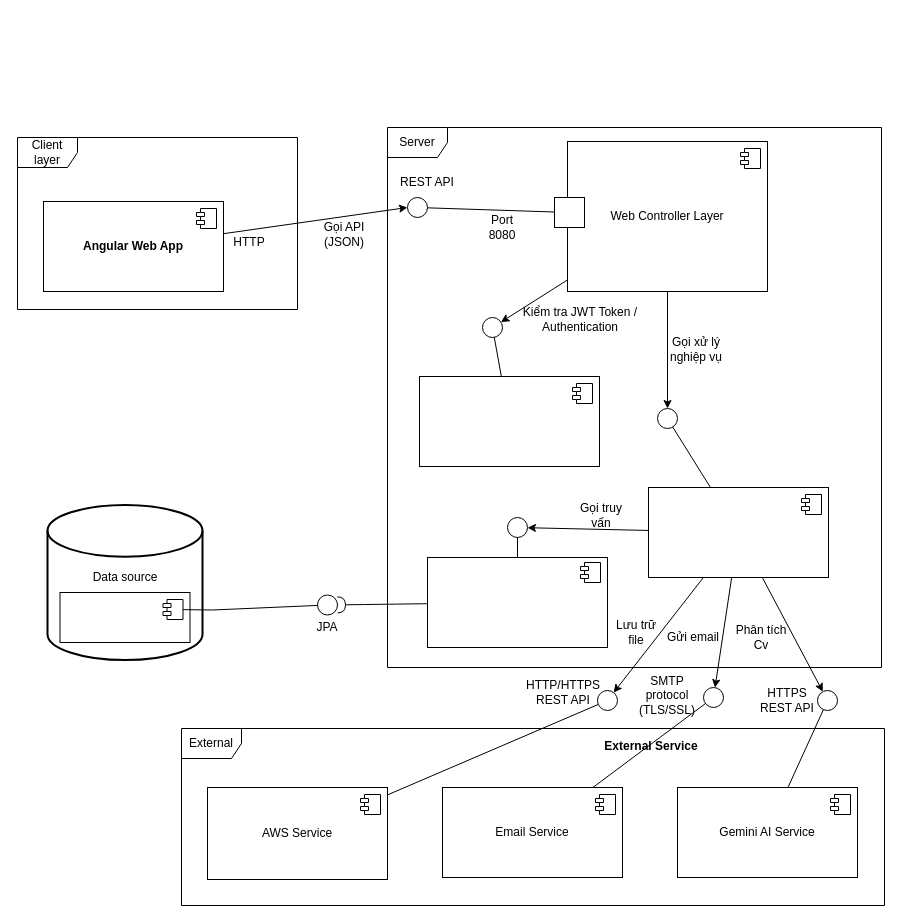
This 902x923 diagram has some shape labels left out. The centre of each missing label's shape, as x and y in pixels:
"Bussiness Logic Layer" belongs at [738,532].
"Data Access Layer" belongs at [517,602].
"PostgreSql" belongs at [124,617].
"Security Component" belongs at [509,421].
